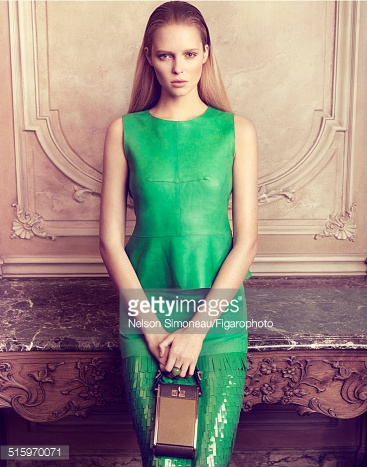em pe: (83, 4, 280, 465)
